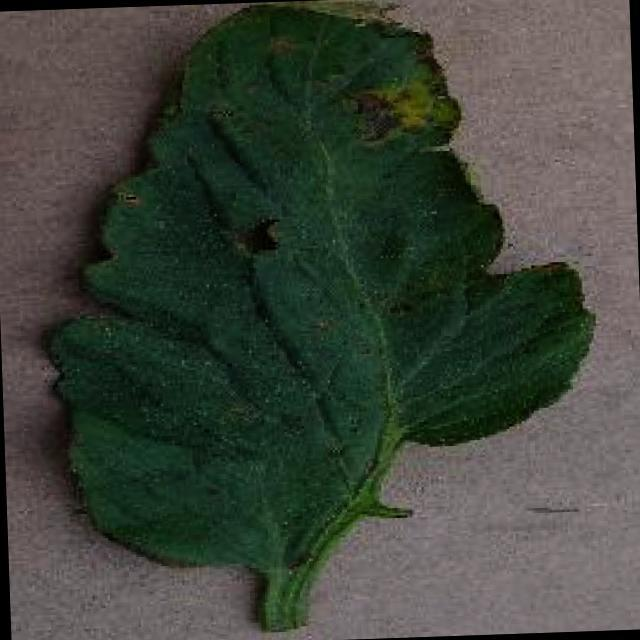Tomato bacterial spot leaf: (32, 0, 604, 577)
